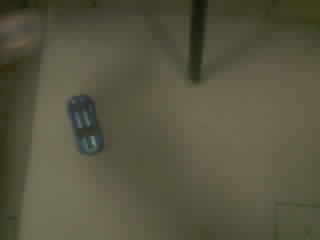Car: (67, 94, 103, 154)
